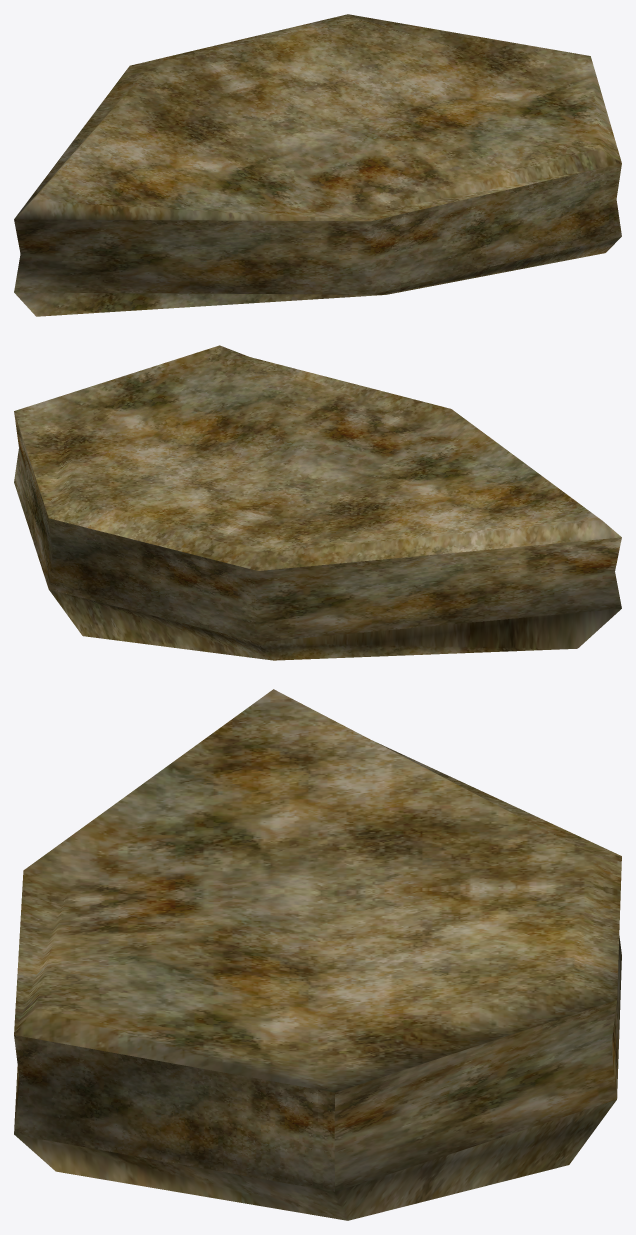
File: TROLLHOLE02_RM_FALL_ROCK02.fbx
3 renders of one model, top to bottom at view 1: azimuth 30°, elevation 25°; view 2: azimuth 150°, elevation 25°; view 3: azimuth 270°, elevation 25°, orthographic. The views are drawn at different scales.
Visible parts, largest first — view 1: TROLLHOLE02_RM_FALL_ROCK02; view 2: TROLLHOLE02_RM_FALL_ROCK02; view 3: TROLLHOLE02_RM_FALL_ROCK02.
Boxes of the visible parts, x1,y1,x2,y2 form: TROLLHOLE02_RM_FALL_ROCK02: [14, 14, 621, 316]; TROLLHOLE02_RM_FALL_ROCK02: [14, 345, 621, 660]; TROLLHOLE02_RM_FALL_ROCK02: [14, 689, 621, 1220].
Bounding box in the file's own units: 25797 × 6671 × 16622.
1 material, 1 textured.
